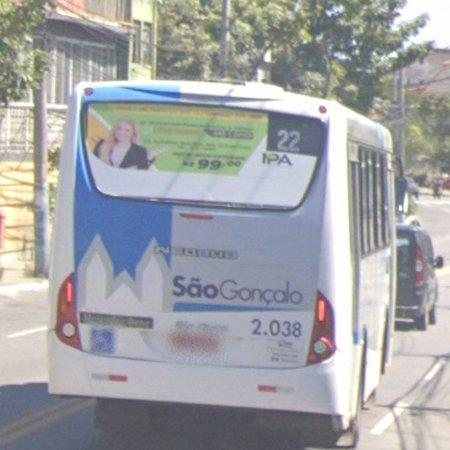buses: (49, 81, 397, 447)
